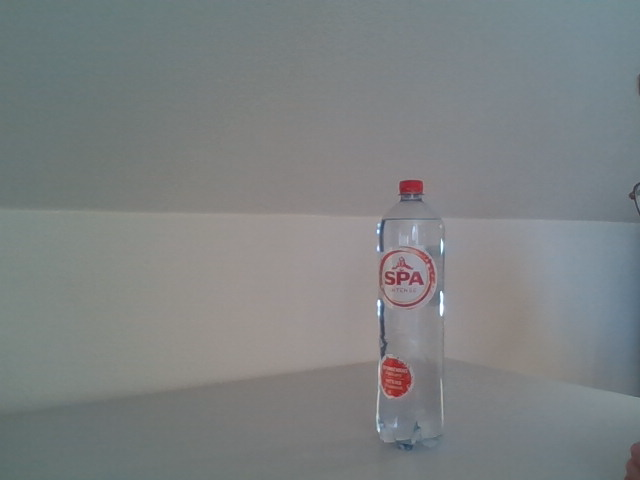bottle: (375, 179, 445, 452)
